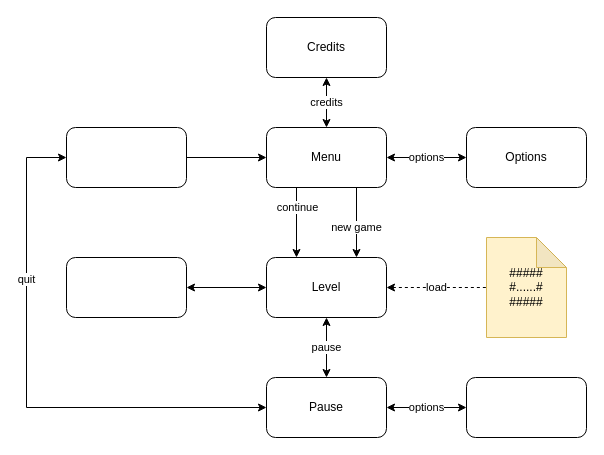
The diagram is 604 pixels wide and 455 high, and some of its shapes have lost their labels. The shapes that lost their labels are listed below. From the top down, each one's box as (x1, y1, x2, y2) in pixels, then its label:
(66, 126, 186, 188): Press Start
(66, 256, 186, 318): Gameover
(466, 376, 586, 438): Basic Options
